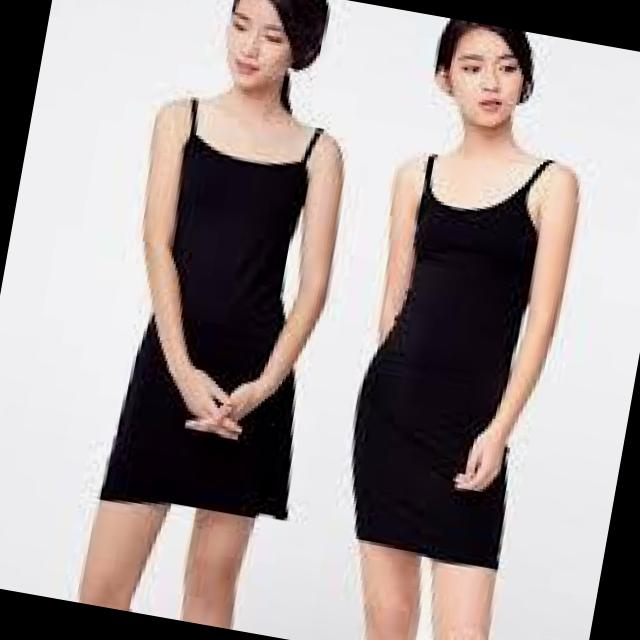dress: (100, 80, 357, 534), (333, 138, 580, 578)
